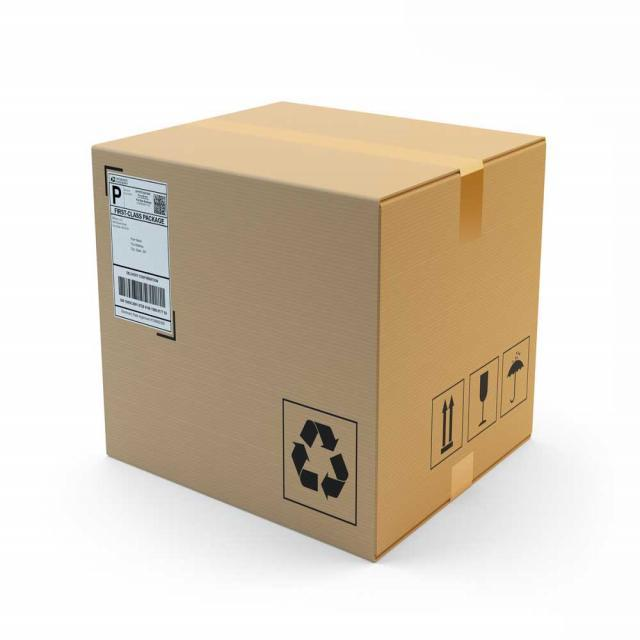-: (88, 94, 556, 571)
